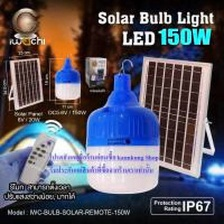light_bulb: (82, 71, 163, 195), (51, 55, 83, 103)
